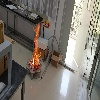fire: (30, 21, 41, 69)
